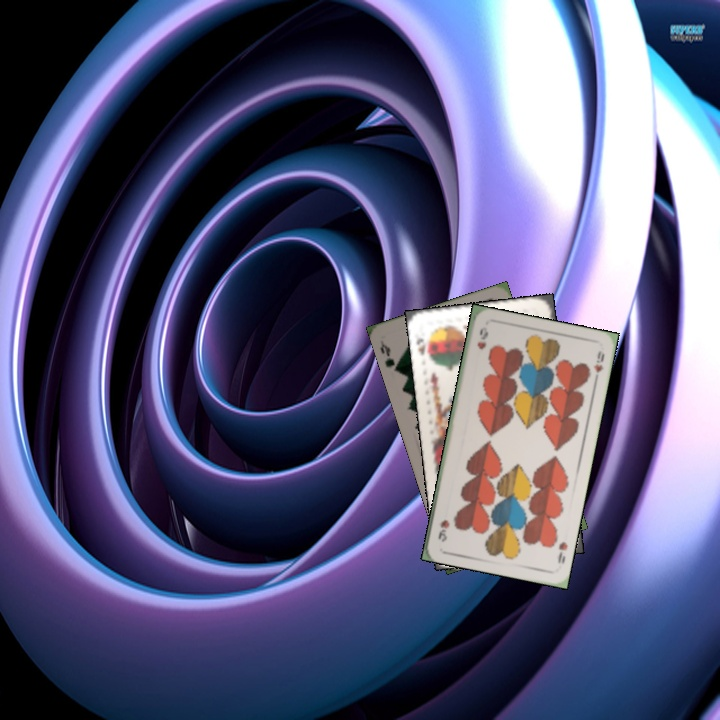G9: (376, 337, 402, 375)
H9: (473, 323, 491, 352), (553, 537, 570, 566)
SK: (412, 334, 434, 363)
